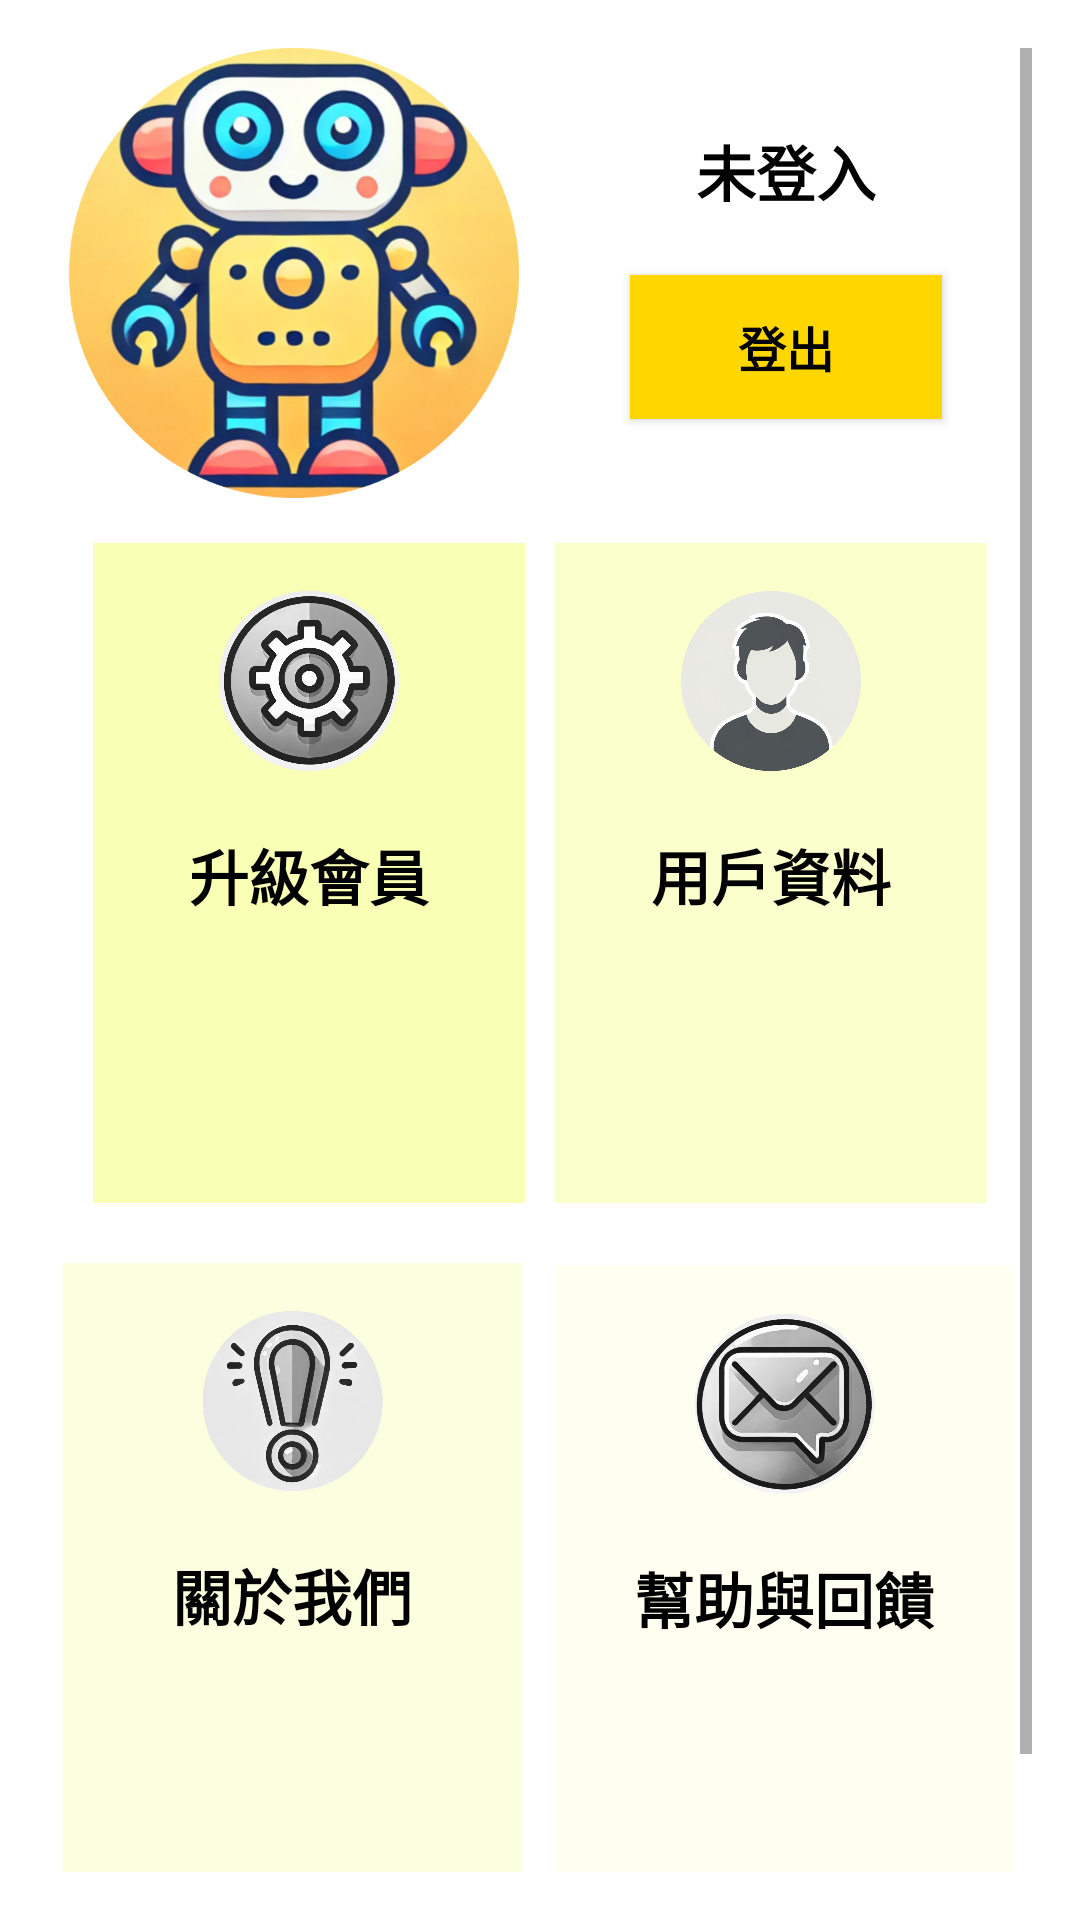

Screen size 1080×1920. Icon name, then its center in pixels as (x,y):
設定圖示: (309,681)
